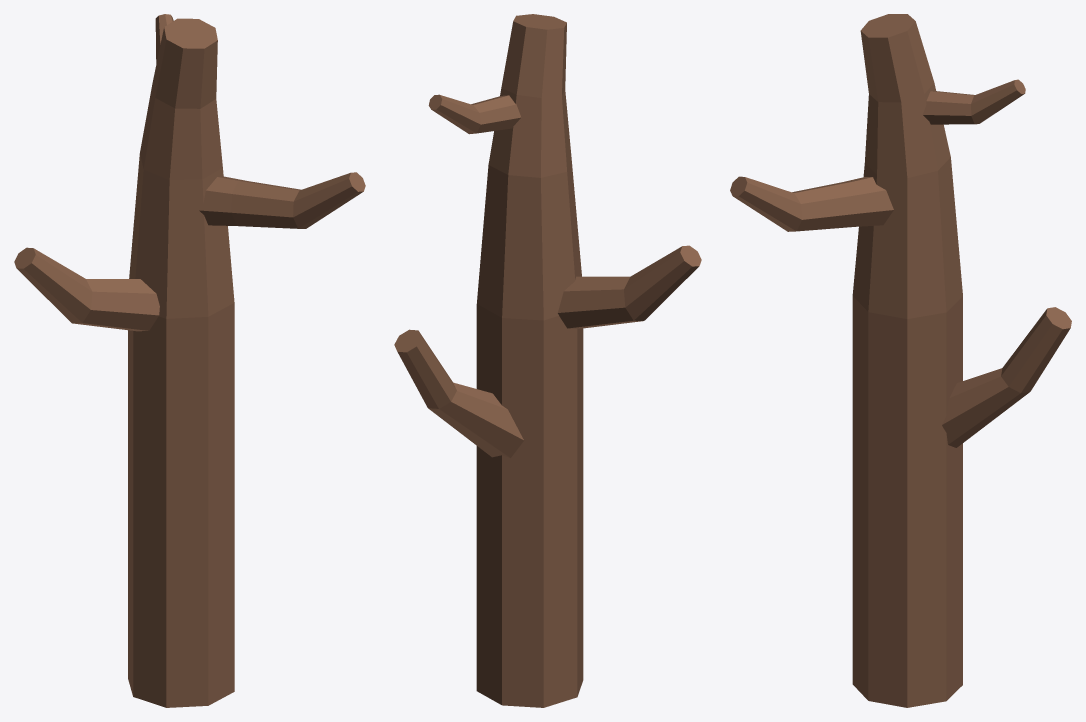
The model's file is Tree2.fbx.
The picture shows the model from 3 angles, left to right: view 1: azimuth 30°, elevation 25°; view 2: azimuth 150°, elevation 25°; view 3: azimuth 270°, elevation 25°; orthographic projection.
Visible parts, largest first — view 1: Circle.004; view 2: Circle.004; view 3: Circle.004.
Part boxes in pixels (bbox=[...]): Circle.004: bbox=[14, 14, 365, 707]; Circle.004: bbox=[394, 14, 701, 707]; Circle.004: bbox=[730, 14, 1071, 707].
Bounding box in the file's own units: 369 × 876 × 409.
